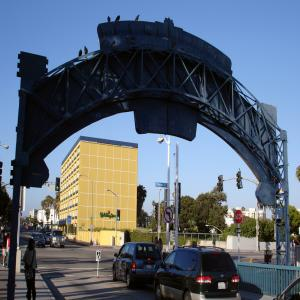Vehicle-registration-plate: (219, 283, 226, 290)
